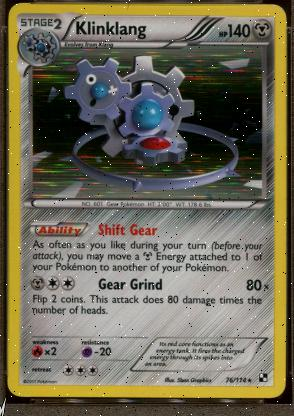Card: (4, 0, 287, 403)
